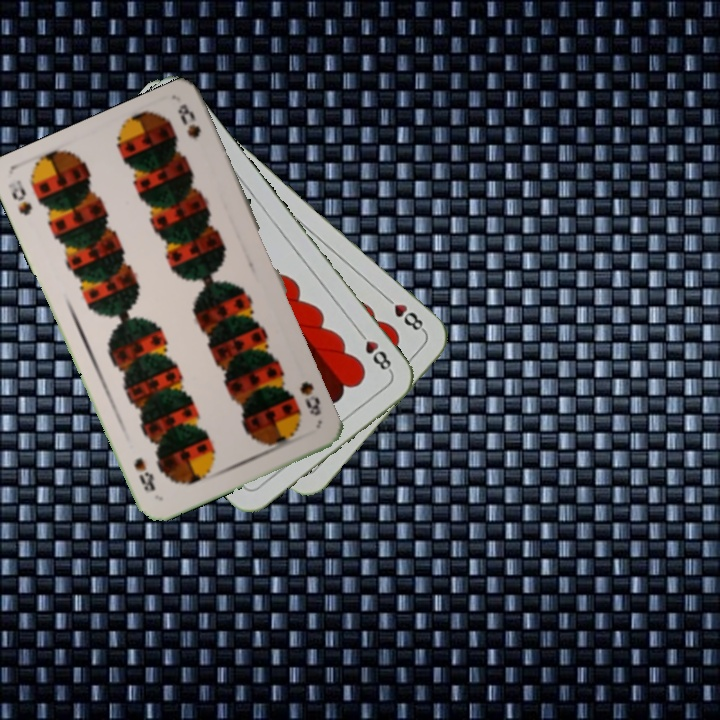H8: (379, 291, 428, 335), (353, 325, 395, 376)
S8: (4, 175, 35, 219), (296, 377, 324, 419)
